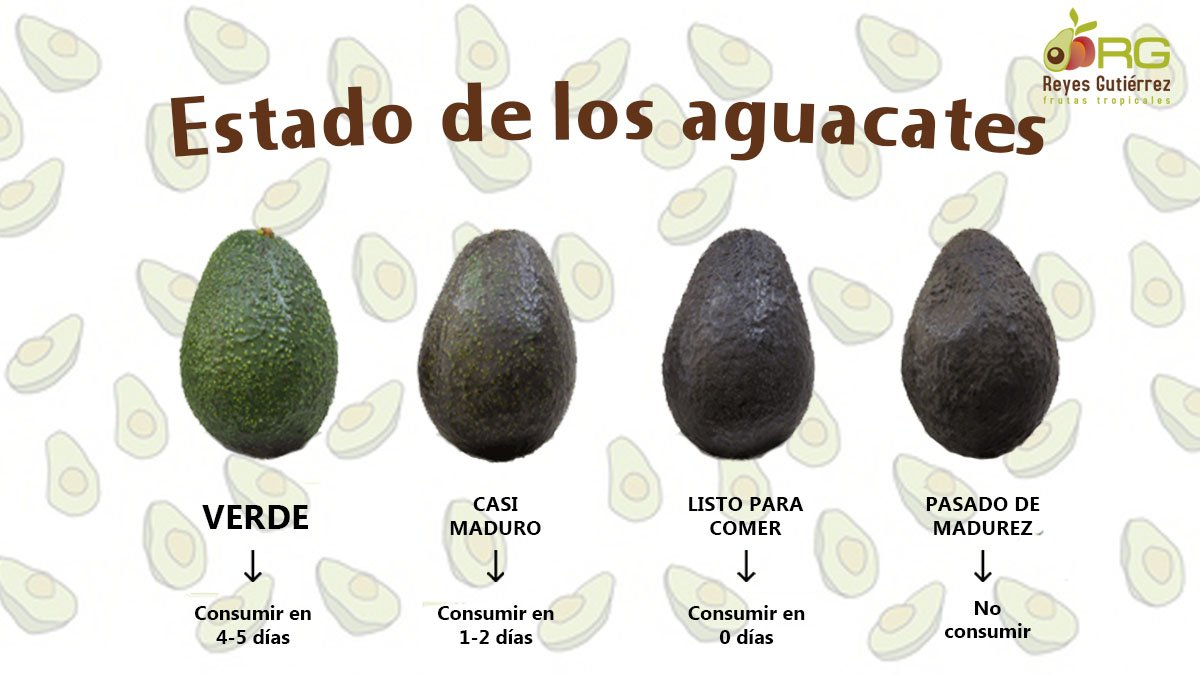fit_avocado: (620, 218, 858, 487)
unfit_avocado: (170, 212, 356, 464), (421, 226, 590, 489), (898, 217, 1061, 473)
